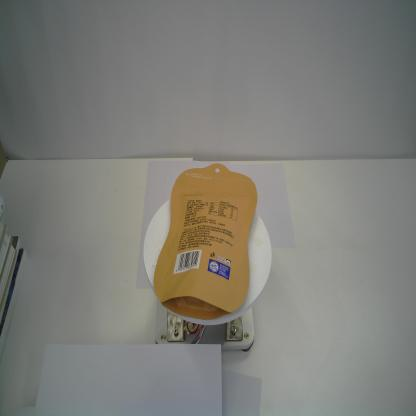Dried Fruit: (153, 163, 258, 320)
